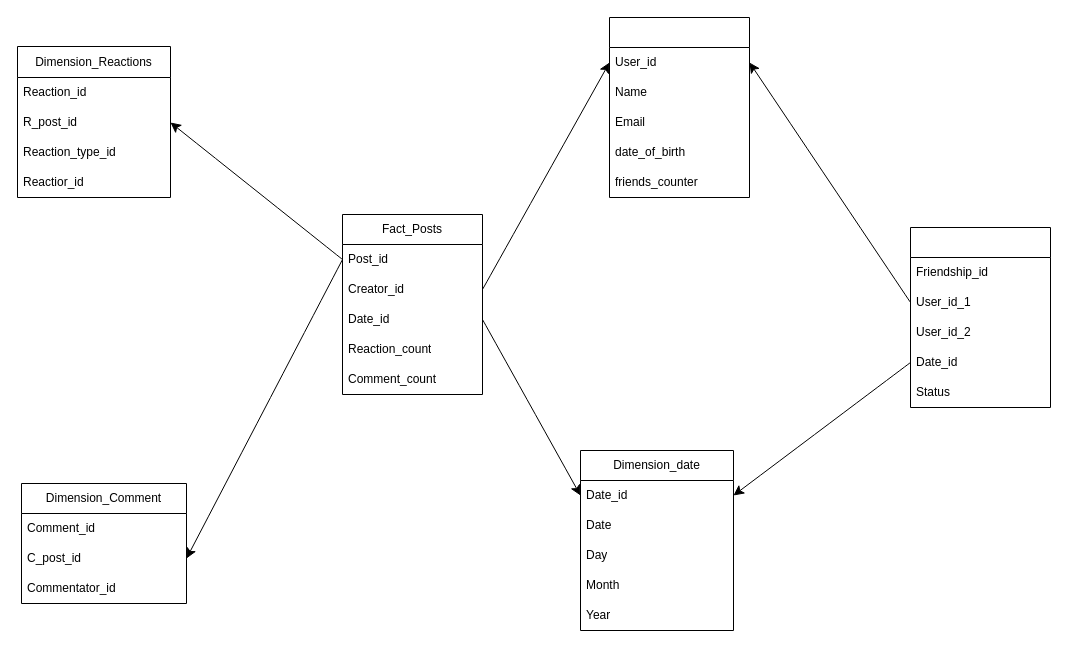
This 1068x648 diagram has some shape labels left out. The shapes that lost their labels are listed below. From the top down, each one's box as (x1, y1, x2, y2) in pixels, then its label:
(608, 16, 750, 198): Dimension_user
(910, 226, 1050, 408): Fact_Friendship
